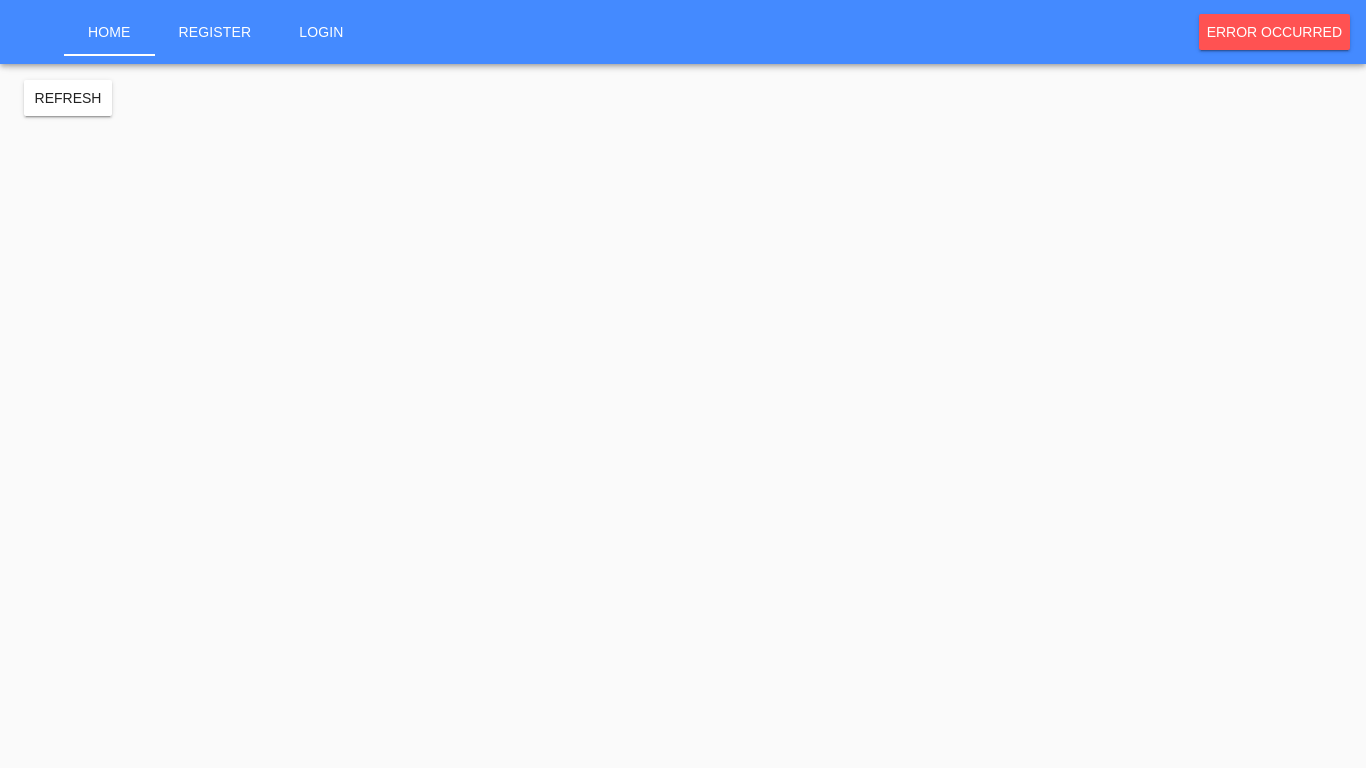
tabs navigation › navigates to login
Click the link "Login" at {"x": 321, "y": 32}, box [275, 8, 367, 56]
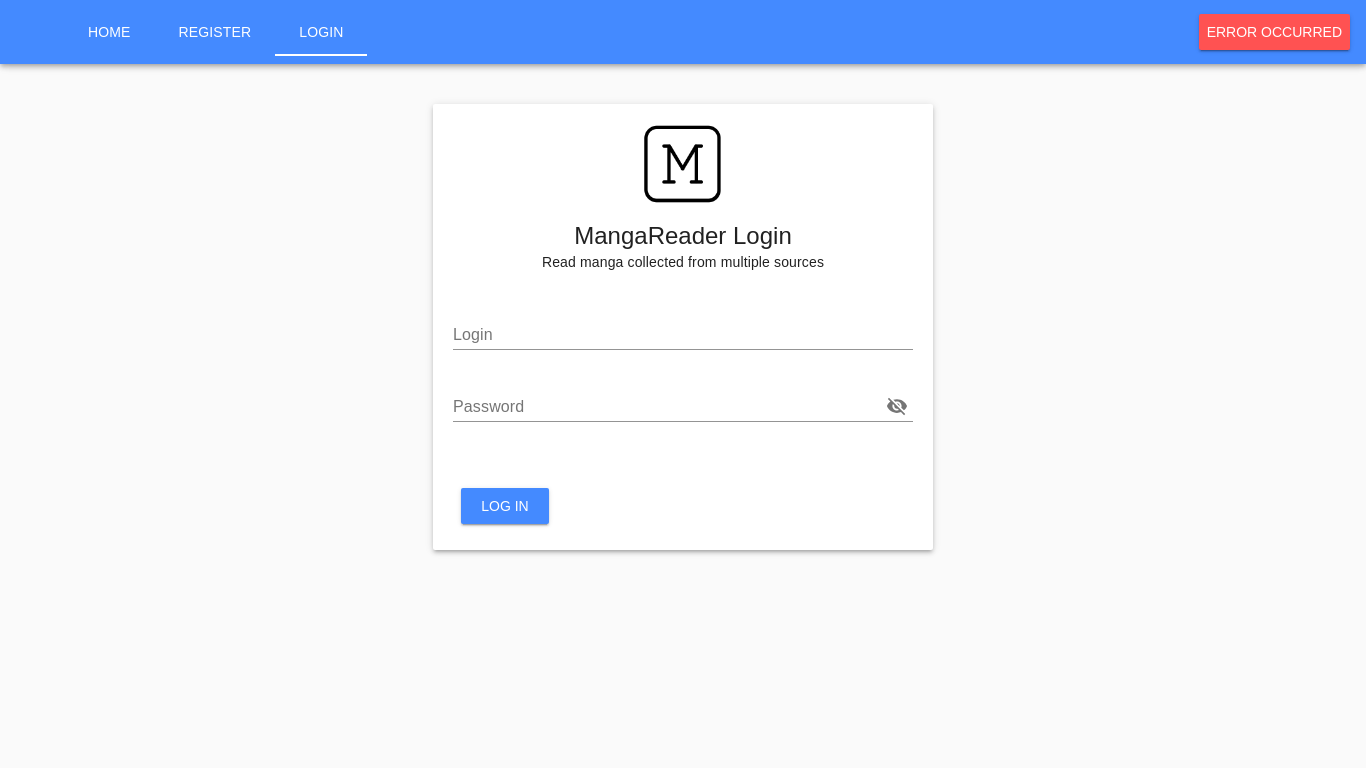
Result: the text "Login" is shown at [574, 222, 792, 249]
